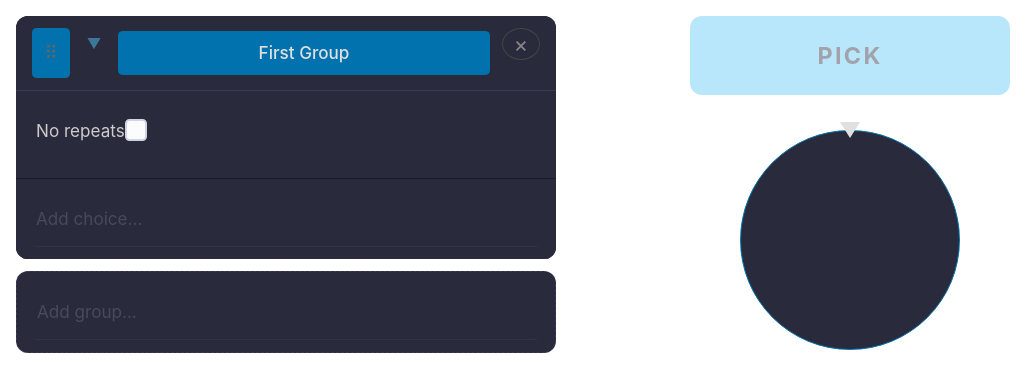
Test: WeightedChoices grouped structure › Group management › renames a group via inline edit
Click the button "First Group": (304, 53) [118,31,490,75]
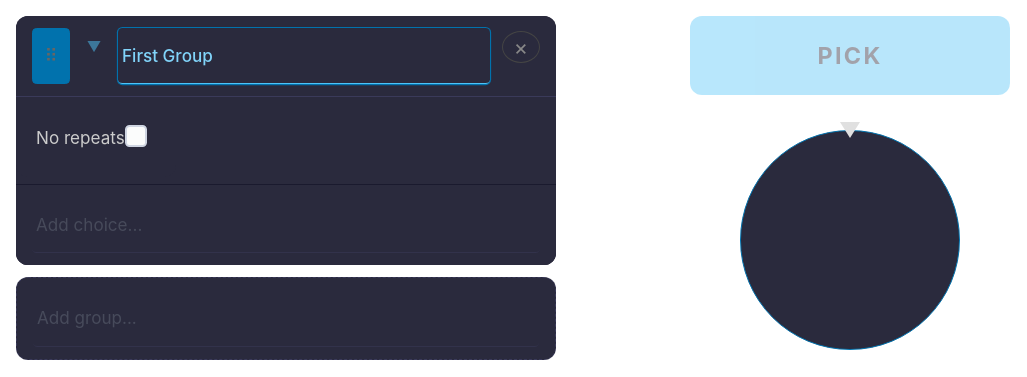
Replace the text in the field showing "First Group" with "Renamed Group": (304, 56) [118,28,490,84]
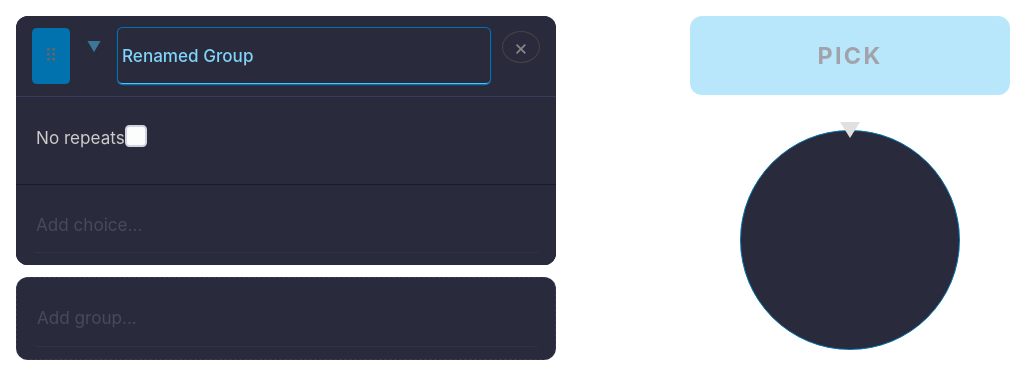
Leave the field showing "First Group", box [118,28,490,84]
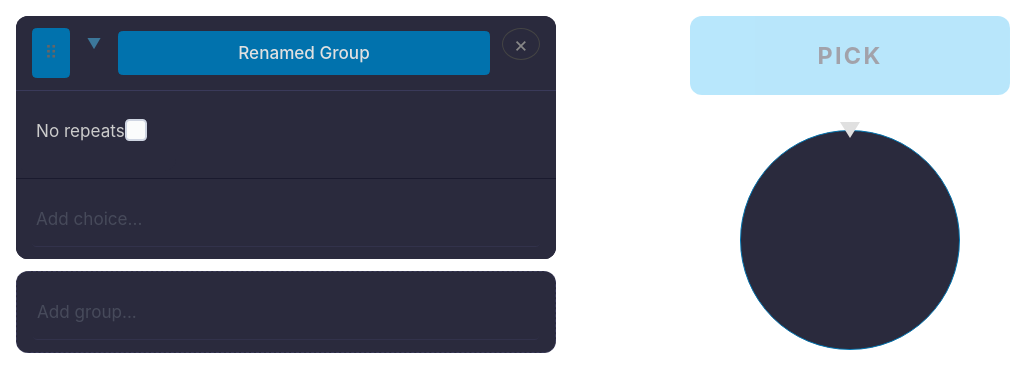
Expected: the button "Renamed Group" reads "Renamed Group", [118,31,490,75]
